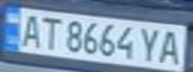4: (115, 24, 139, 61)
6: (78, 20, 103, 56), (97, 21, 118, 59)
8: (60, 18, 84, 54)
A: (154, 27, 187, 65), (15, 11, 45, 48)
T: (36, 15, 63, 51)
Y: (136, 25, 163, 63)
